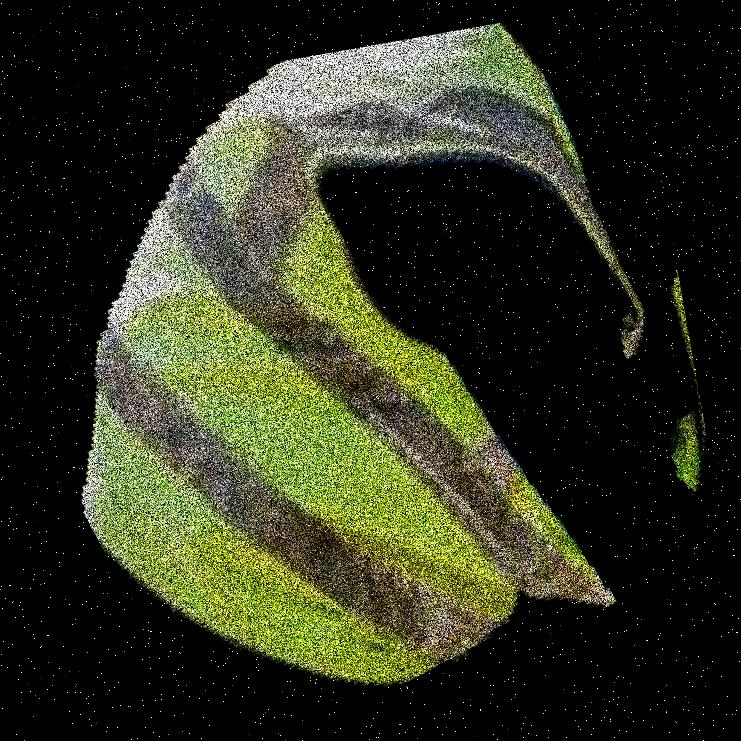Colete: (193, 0, 480, 740)
